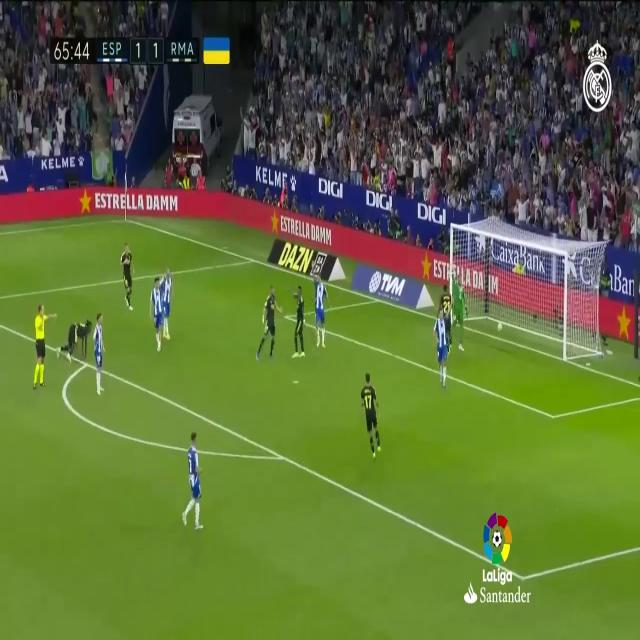ball: (496, 320, 504, 333)
team1: (256, 285, 283, 362), (360, 370, 382, 460), (55, 315, 93, 366), (291, 281, 307, 360), (120, 238, 136, 312)
team2: (182, 429, 205, 530), (311, 259, 330, 350), (150, 264, 165, 352), (433, 307, 449, 389), (92, 311, 107, 397), (438, 282, 454, 358), (161, 256, 174, 341)
